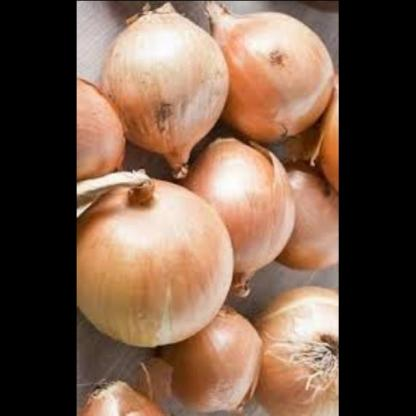onion: (77, 176, 239, 351), (103, 0, 234, 175), (190, 140, 305, 296), (212, 0, 340, 140), (260, 283, 339, 415), (175, 311, 267, 416), (278, 136, 339, 290), (78, 65, 132, 220), (77, 371, 179, 414)
